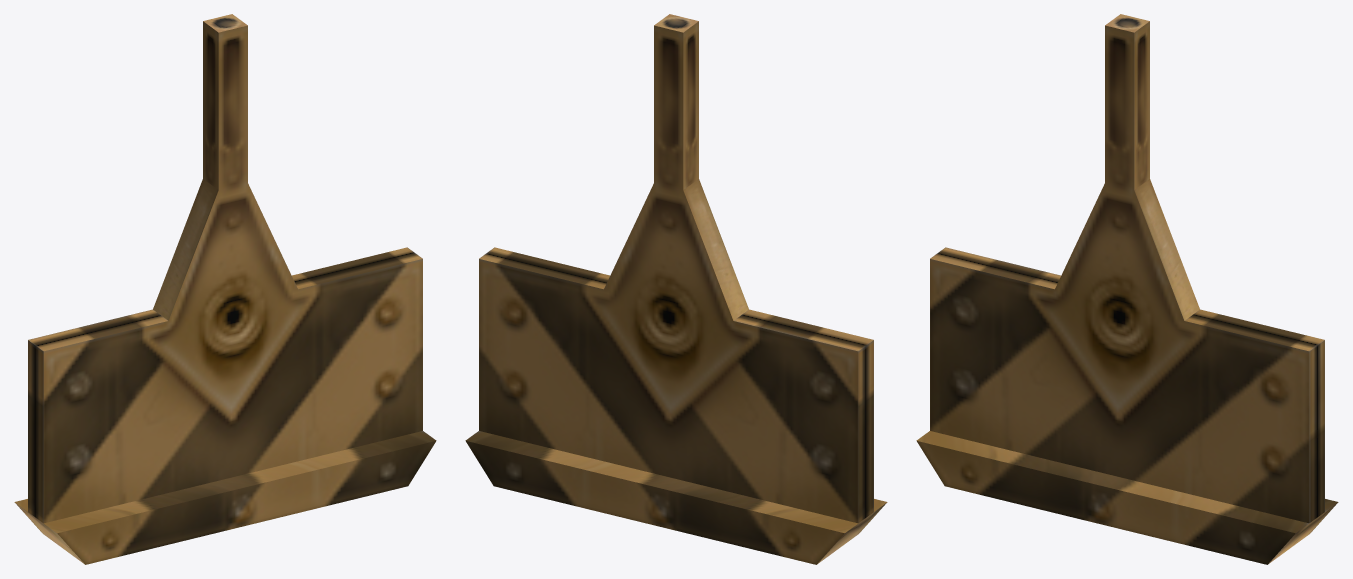
The model's file is HookBlock.fbx.
3 views of the same model, side by side, from view 1: azimuth 30°, elevation 25°; view 2: azimuth 150°, elevation 25°; view 3: azimuth 330°, elevation 25° (orthographic).
Parts seen in each view (by area): view 1: Hook01; view 2: Hook01; view 3: Hook01.
Part boxes in pixels (<box>): Hook01: <box>14,14,436,564</box>; Hook01: <box>465,14,887,564</box>; Hook01: <box>916,14,1338,564</box>.
Bounding box in the file's own units: 888 × 1088 × 173.
1 material, 1 textured.
